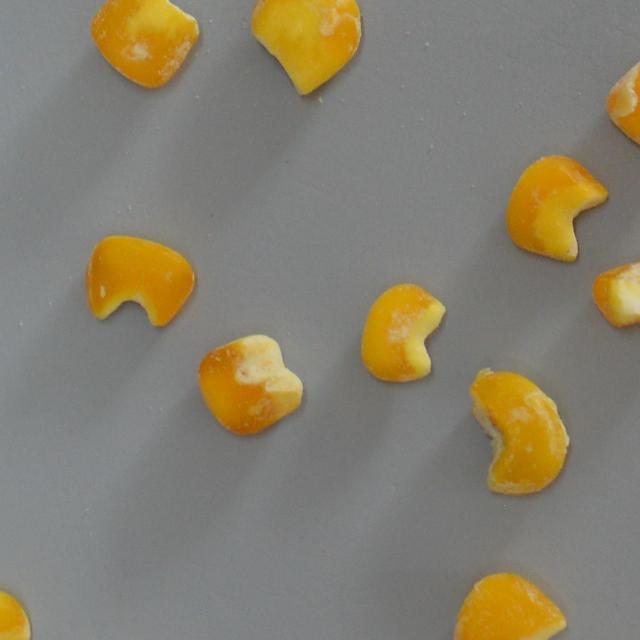no_canjicado: (503, 149, 608, 266), (84, 233, 196, 326), (592, 250, 640, 327), (0, 586, 32, 640)
pelicula: (470, 366, 569, 495), (196, 332, 303, 437), (251, 0, 361, 94), (92, 0, 199, 88), (360, 282, 444, 384), (454, 571, 566, 640), (605, 49, 640, 155)
